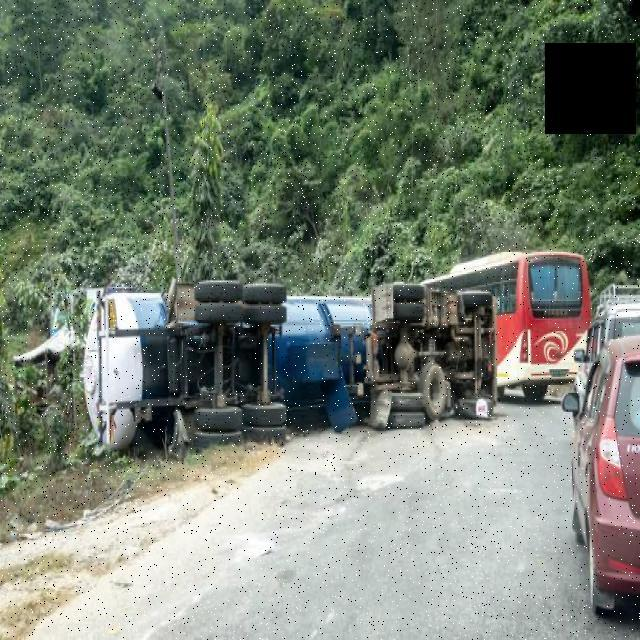severe: (52, 270, 504, 454)
